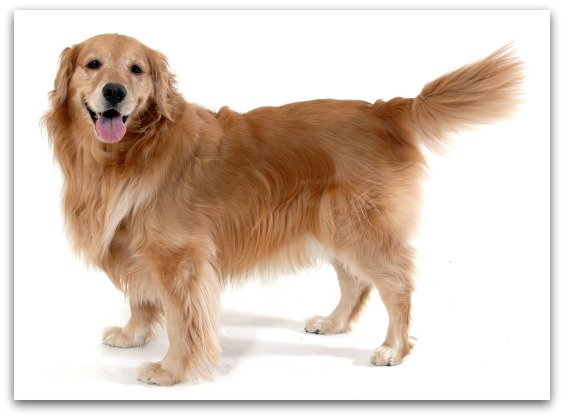tail: (396, 34, 523, 155)
